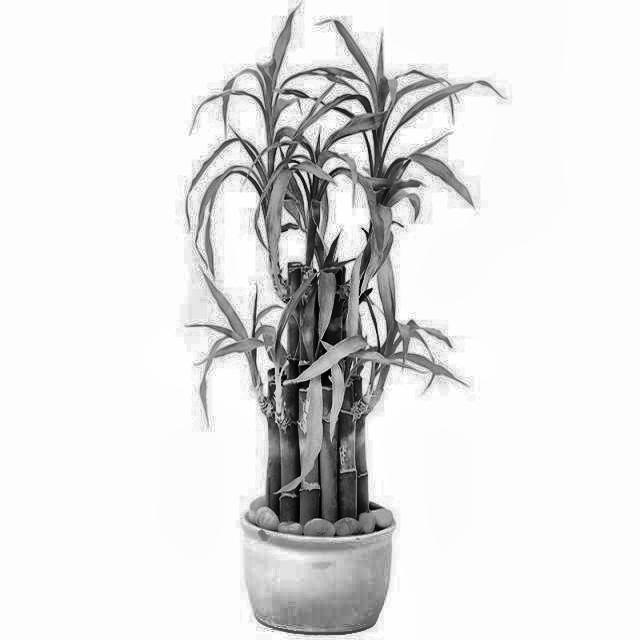plants: (183, 10, 501, 639)
